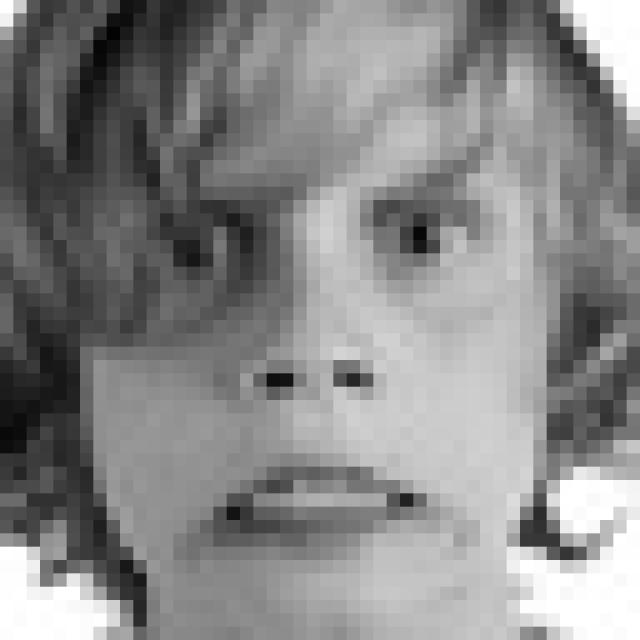fear: (127, 136, 539, 586)
